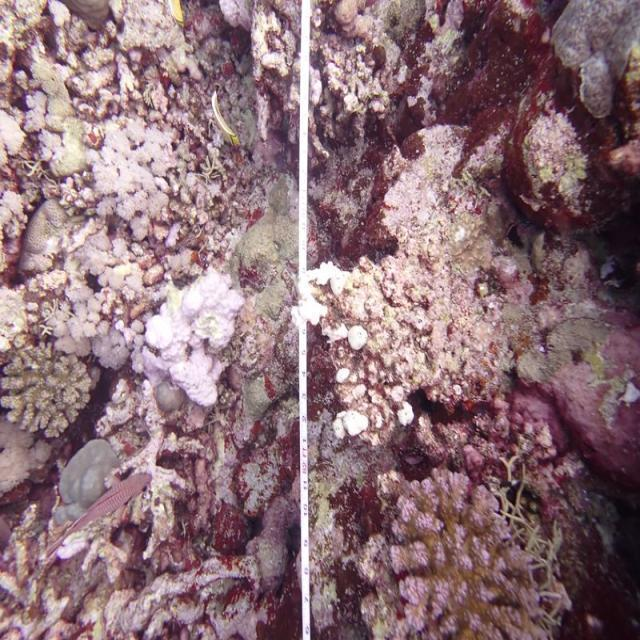Bleached Coral: (123, 264, 275, 423), (59, 114, 216, 244)
Healthy Coral: (377, 463, 549, 640), (0, 343, 95, 438)
